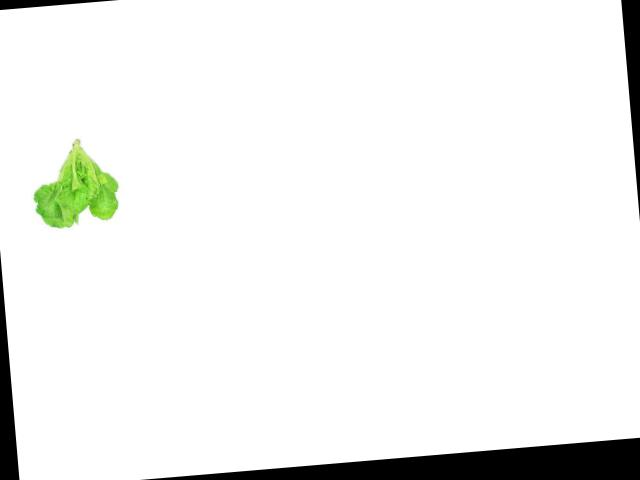lettuce: (24, 133, 124, 235)
